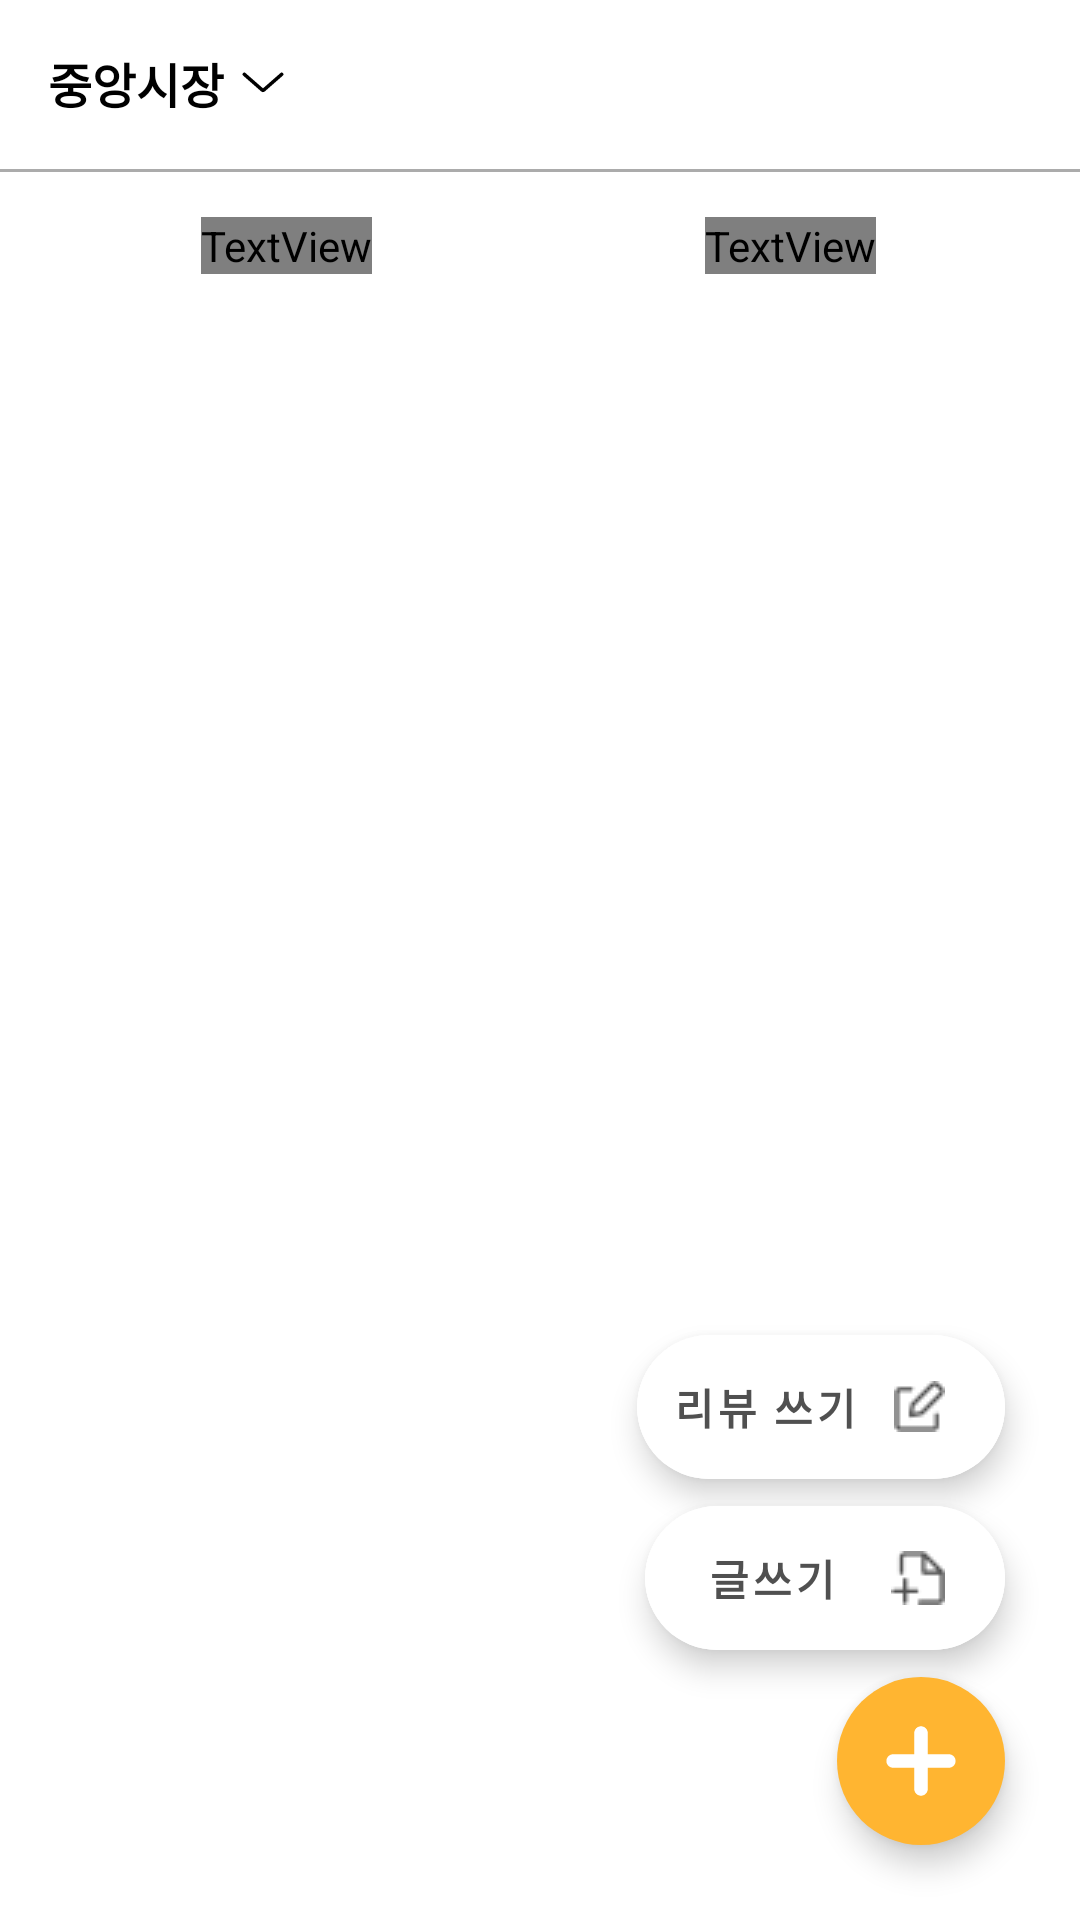

Point at icon controls on the screen. Image size 1080 × 1920, points as (x=x, y=y).
float only plus: (x=921, y=1761)
